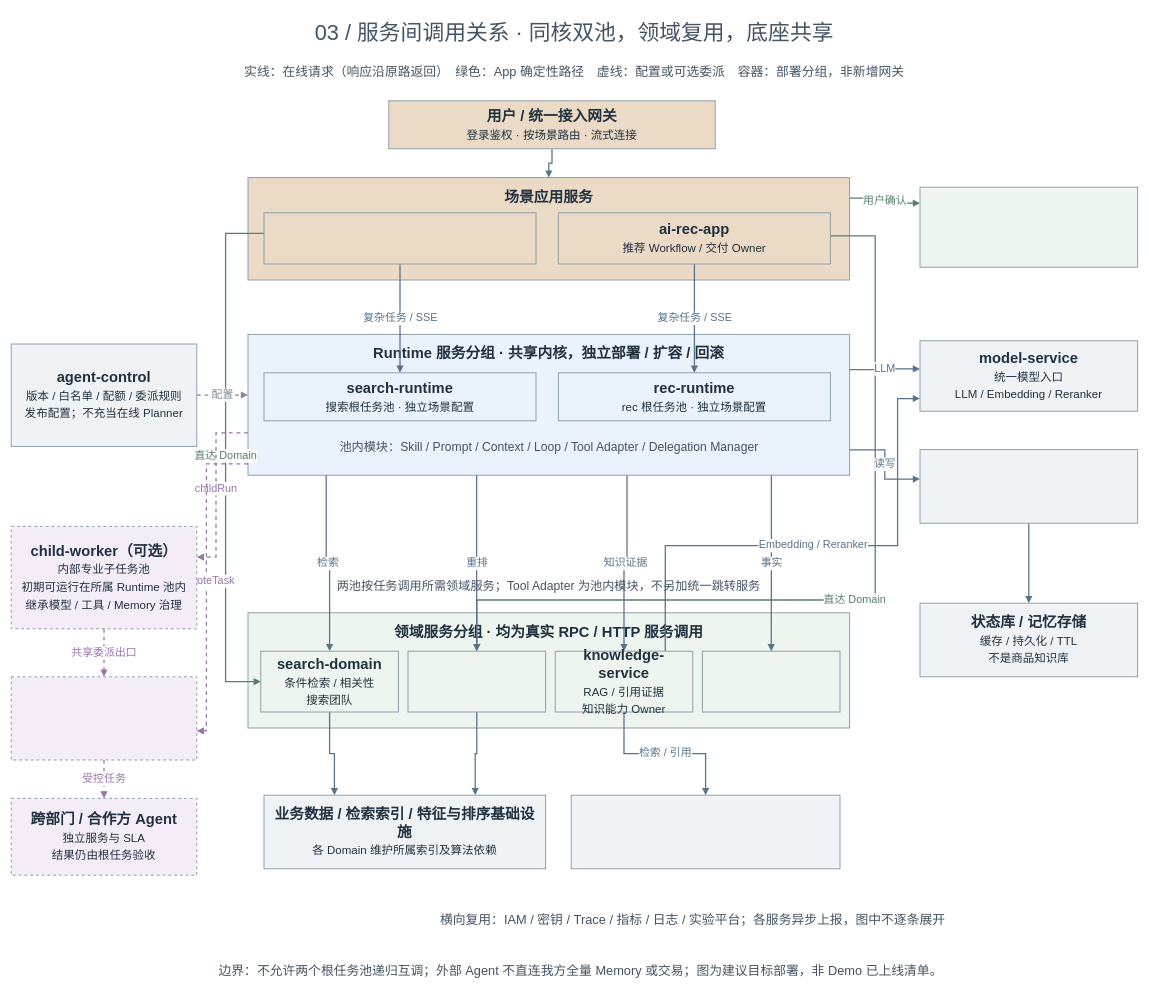
Some shapes in this 1149 by 998 pixel diagram are drawn without their labels. The centre of each missing label's shape, as x and y in pixels:
ai-search-app 搜索 Workflow / 交付 Owner: point (399, 238)
external-agent-gateway 可选部署 / 复用网关 鉴权 · 数据最小化 · 任务映射: point (103, 718)
memory-state-service 授权 Memory · 会话 · 检查点 租户 / rootRun / childRun 隔离: point (1028, 486)
rec-domain 候选重排 / 集合策略 推荐团队: point (476, 681)
trade-service 可信确认后报价 / 下单 复用交易域；不由 Agent 授权: point (1028, 226)
商品 / 用户服务 价格库存 / 规格 授权画像与行为: point (771, 681)
知识库 / 混合检索引擎 原文 · ACL · 倒排 / 向量索引 索引流水线独立异步更新: point (705, 831)
